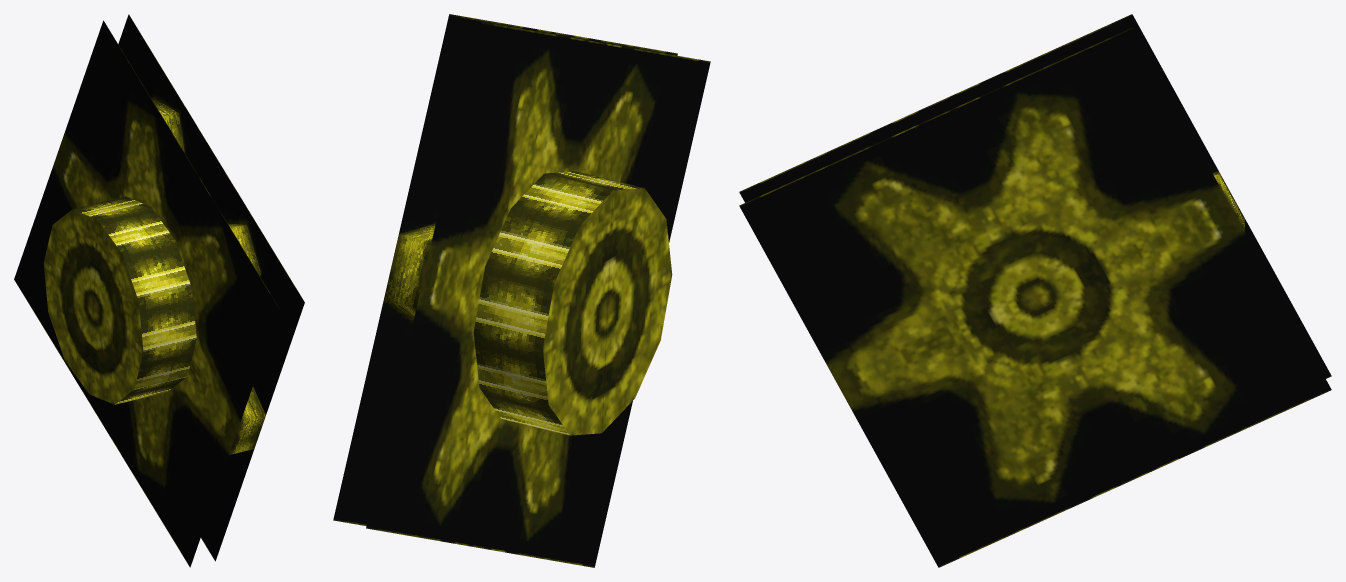
File: INST_PUZZLE_PIECE1_PIECE1_GOLD.fbx
The picture shows the model from 3 angles, left to right: view 1: azimuth 30°, elevation 25°; view 2: azimuth 150°, elevation 25°; view 3: azimuth 270°, elevation 25°; orthographic projection. The views are drawn at different scales.
Visible parts, largest first — view 1: INST_PUZZLE_PIECE1_PIECE1_GOLD; view 2: INST_PUZZLE_PIECE1_PIECE1_GOLD; view 3: INST_PUZZLE_PIECE1_PIECE1_GOLD.
Part boxes in pixels (x1,y1,x2,y2): INST_PUZZLE_PIECE1_PIECE1_GOLD: (14, 14, 304, 567); INST_PUZZLE_PIECE1_PIECE1_GOLD: (333, 14, 710, 567); INST_PUZZLE_PIECE1_PIECE1_GOLD: (739, 14, 1331, 567).
Size of the model in its own units: 783 by 4613 by 4588.
3 materials, 3 textured.
